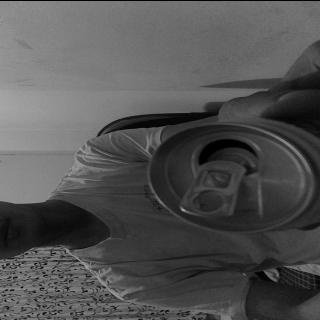alumunium_can: (149, 110, 320, 234)
